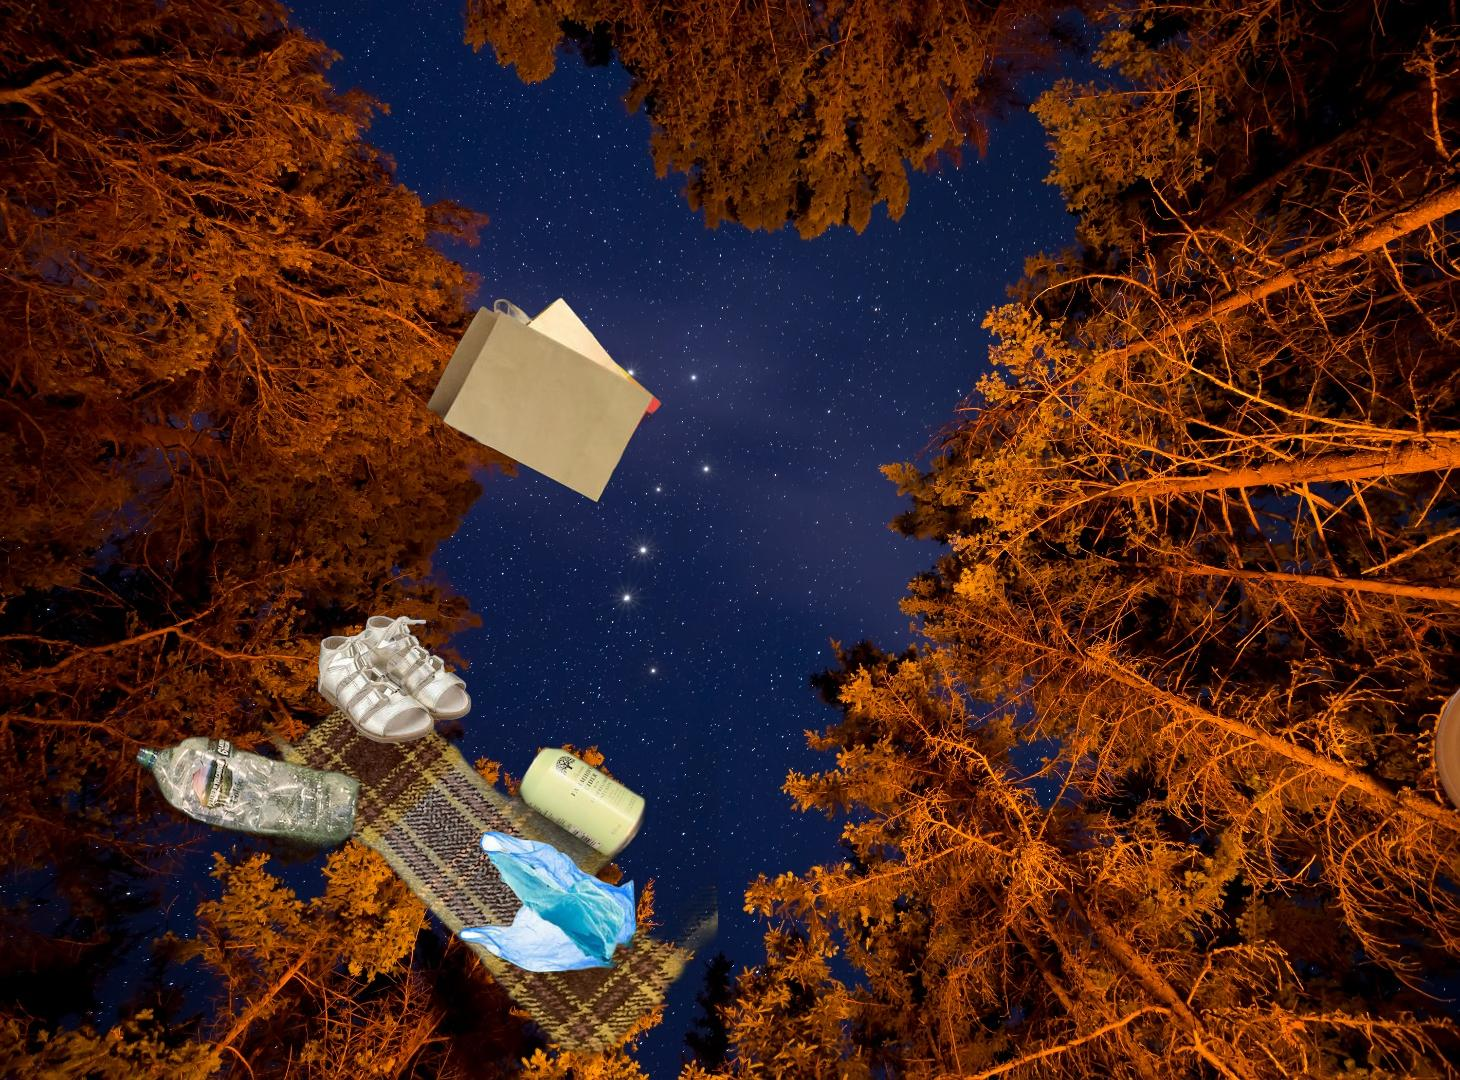biological: (1431, 621, 1460, 879), (1427, 987, 1460, 1080)
metal-cans: (206, 458, 718, 1080)
paper-bag: (424, 295, 665, 504)
plastic-bag: (456, 830, 649, 976)
plastic-bottles: (130, 729, 364, 872)
shoes: (315, 613, 474, 746)
